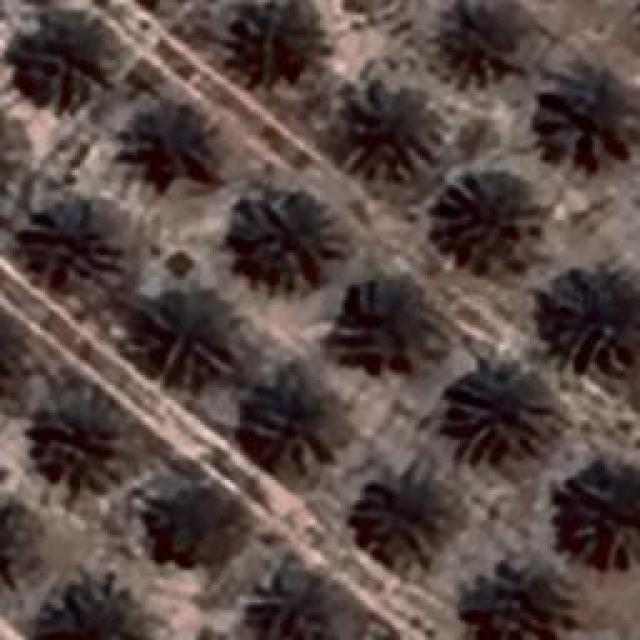PalmTree: (13, 48, 480, 353), (442, 357, 562, 465), (334, 78, 448, 178), (126, 298, 242, 392), (437, 170, 545, 268), (222, 192, 332, 288), (248, 368, 340, 480), (530, 62, 635, 160), (0, 3, 108, 98), (30, 398, 128, 498), (540, 260, 635, 362), (231, 0, 336, 92), (354, 465, 452, 563), (354, 276, 446, 379), (116, 105, 219, 195), (560, 454, 638, 568), (476, 565, 579, 640), (25, 210, 115, 292), (33, 577, 148, 640), (151, 484, 239, 562), (267, 575, 355, 640), (0, 98, 27, 217), (0, 98, 19, 224), (0, 496, 26, 588), (0, 496, 16, 590), (0, 308, 16, 399)
